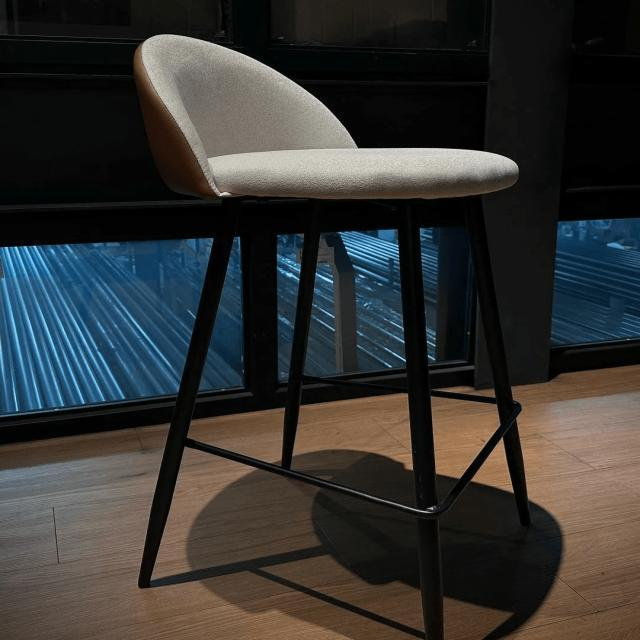chair: (121, 28, 542, 640)
